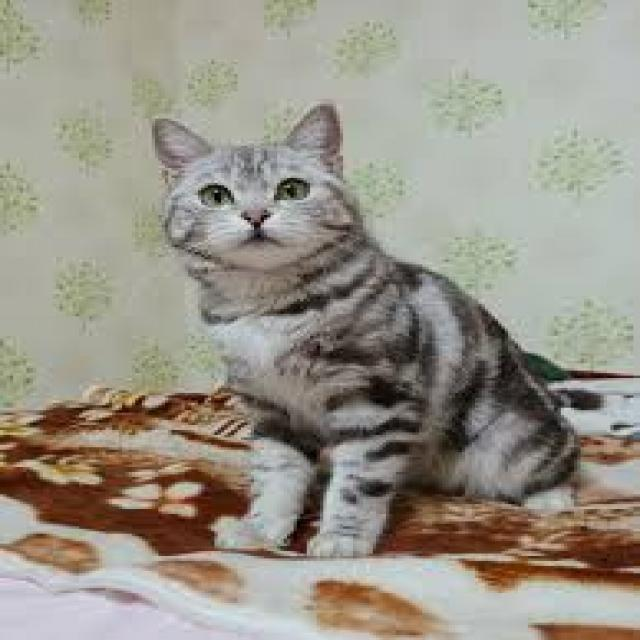cat-face: (140, 85, 460, 335)
